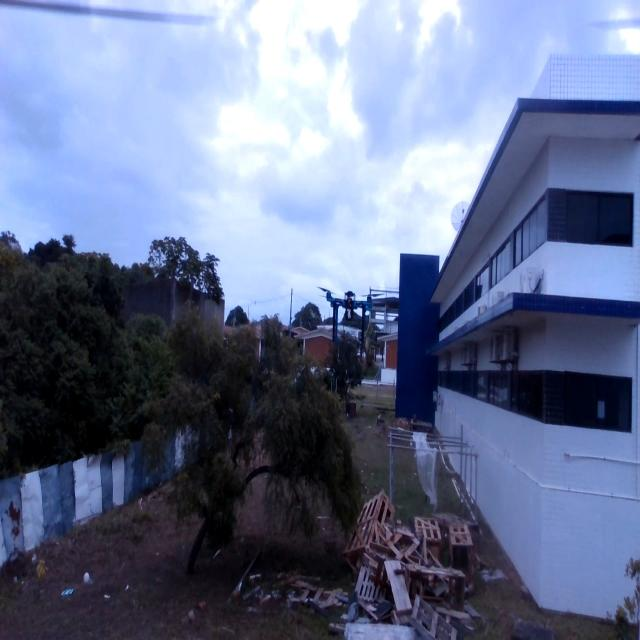-uav-: (315, 273, 383, 363)
